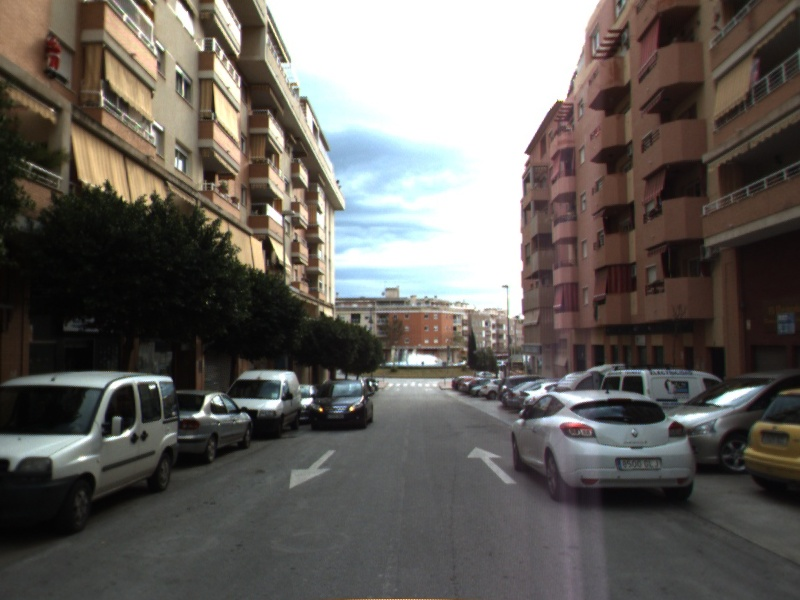STRAIGHT: (466, 445, 518, 485)
